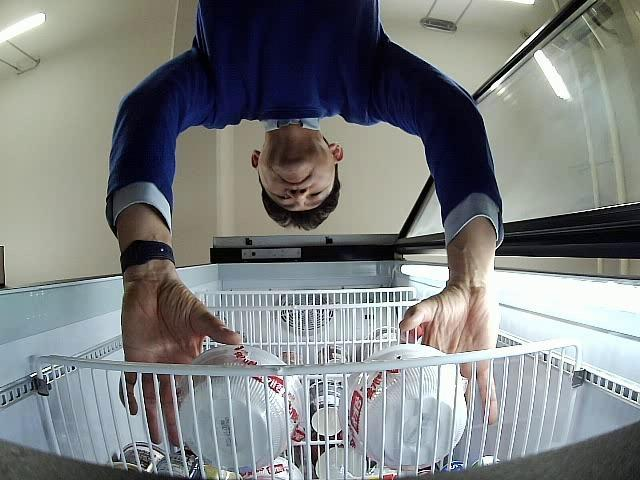09_yukGaeJang: (340, 344, 468, 470), (177, 345, 306, 470)
